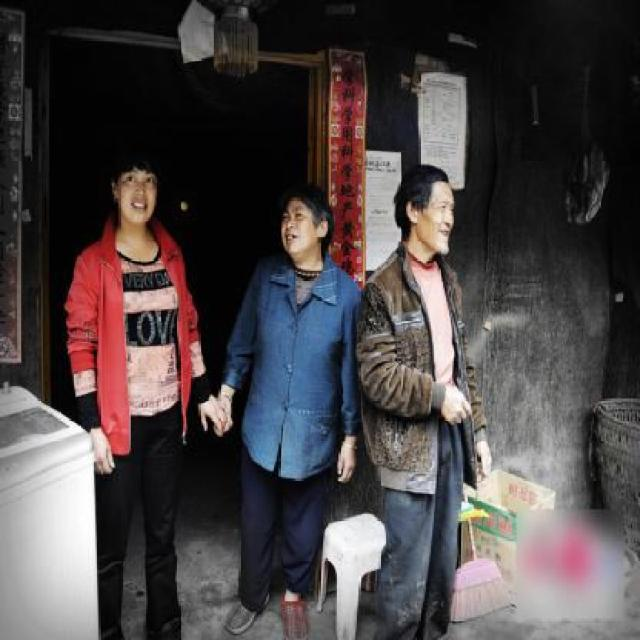Person: (38, 115, 228, 639), (342, 128, 512, 640), (205, 167, 348, 598)
